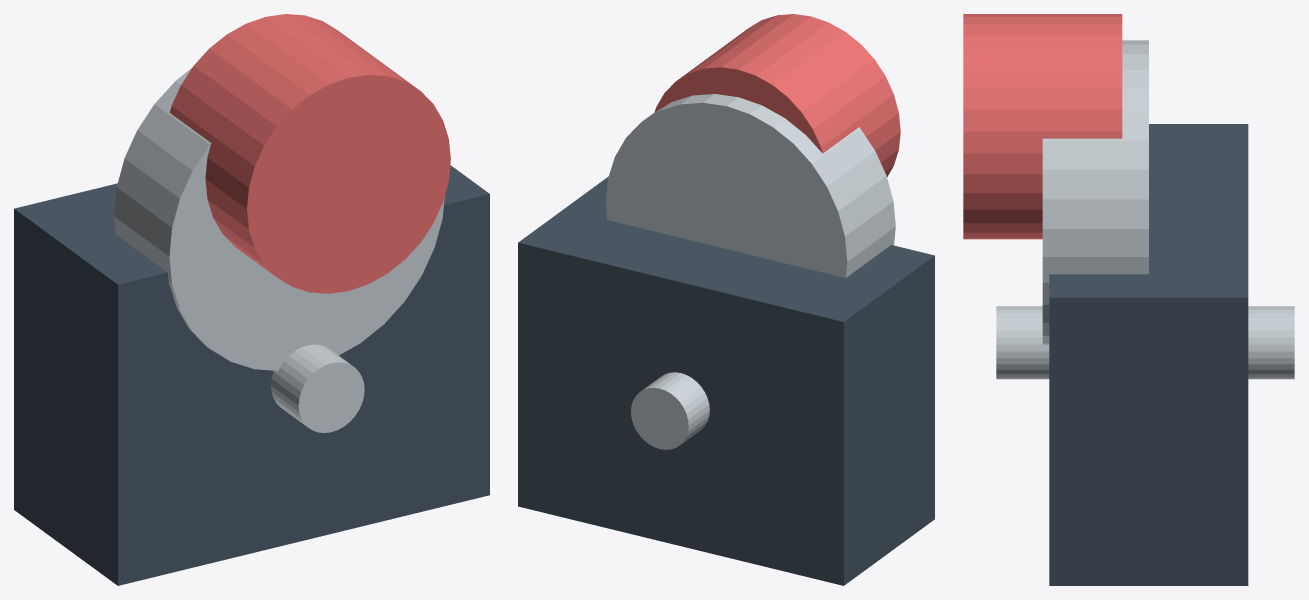
The model's file is pushbutton_red.glb.
3 renders of one model, left to right at view 1: azimuth 30°, elevation 25°; view 2: azimuth 150°, elevation 25°; view 3: azimuth 270°, elevation 25°, orthographic. The views are drawn at different scales.
Visible parts, largest first — view 1: pushbutton_red_0, pushbutton_red_2, pushbutton_red_1, pushbutton_red_4; view 2: pushbutton_red_0, pushbutton_red_1, pushbutton_red_2, pushbutton_red_3; view 3: pushbutton_red_0, pushbutton_red_2, pushbutton_red_1, pushbutton_red_4, pushbutton_red_3.
Part boxes in pixels (x1,y1,x2,y2): pushbutton_red_0: (14,165,489,585); pushbutton_red_2: (170,14,450,293); pushbutton_red_1: (114,67,444,370); pushbutton_red_4: (271,344,364,432); pushbutton_red_0: (518,176,934,585); pushbutton_red_1: (605,94,895,277); pushbutton_red_2: (654,14,900,176); pushbutton_red_3: (631,372,709,449); pushbutton_red_0: (1049,124,1248,585); pushbutton_red_2: (963,14,1122,239); pushbutton_red_1: (1042,40,1148,344); pushbutton_red_4: (996,306,1049,379); pushbutton_red_3: (1248,306,1294,379).
Size of the model in its own units: 0.62 by 0.79 by 0.5.
